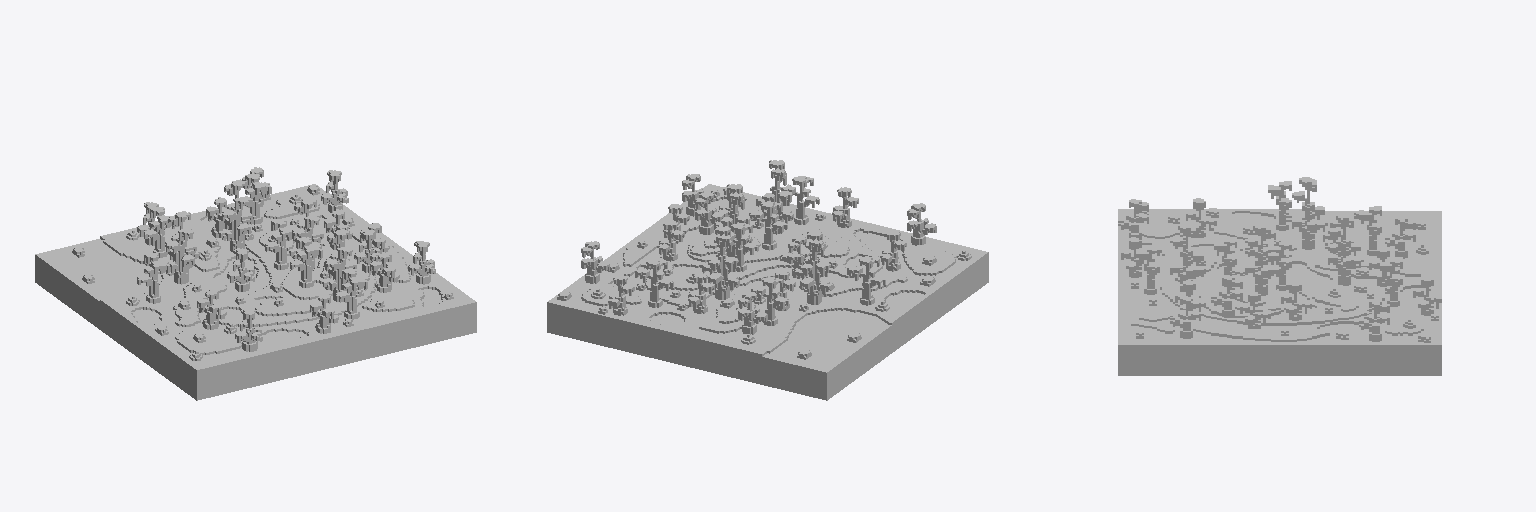
File: Map (17).obj
3 views of the same model, side by side, from view 1: azimuth 30°, elevation 25°; view 2: azimuth 150°, elevation 25°; view 3: azimuth 270°, elevation 25° (orthographic).
Visible parts, largest first — view 1: ALL MAP!!!!!!!!!!!-14; view 2: ALL MAP!!!!!!!!!!!-14; view 3: ALL MAP!!!!!!!!!!!-14.
Boxes of the visible parts, x1=… form: ALL MAP!!!!!!!!!!!-14: x1=35, y1=167, x2=476, y2=400; ALL MAP!!!!!!!!!!!-14: x1=547, y1=160, x2=988, y2=400; ALL MAP!!!!!!!!!!!-14: x1=1118, y1=177, x2=1441, y2=375.
Bounding box in the file's own units: 125 × 44 × 125.